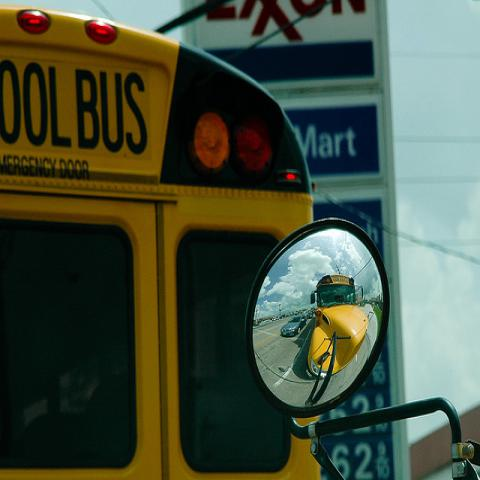bus: (1, 6, 476, 474)
car: (281, 314, 307, 336)
